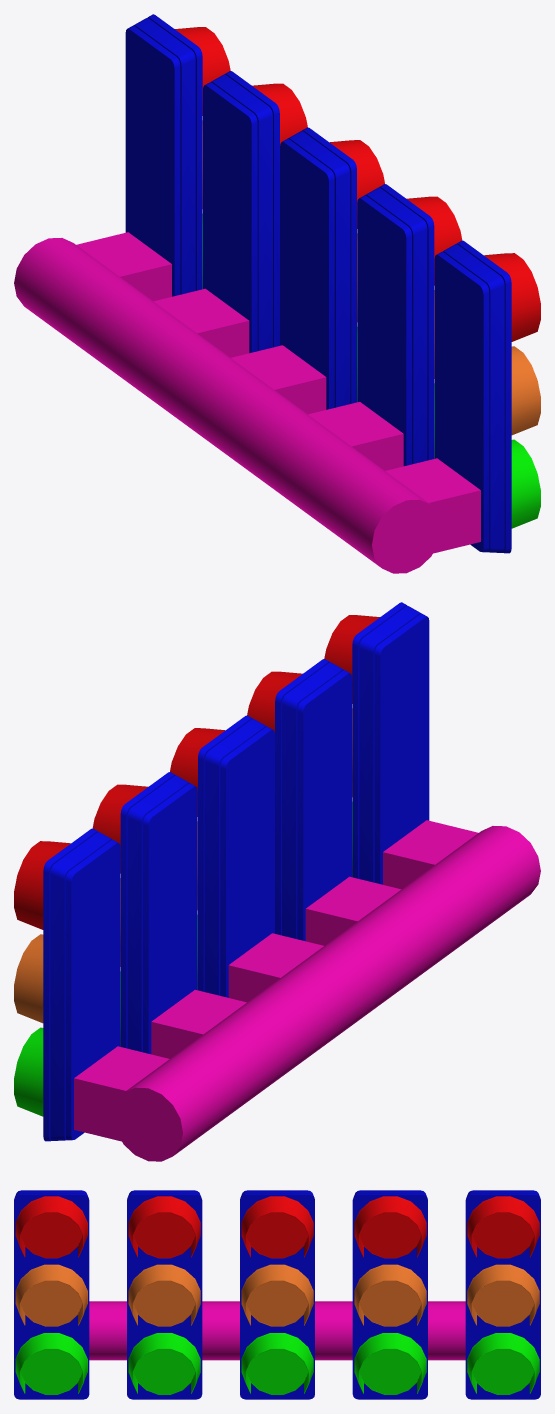
Rendered from Race_Lights_Mesh.fbx.
3 renders of one model, top to bottom at view 1: azimuth 30°, elevation 25°; view 2: azimuth 150°, elevation 25°; view 3: azimuth 270°, elevation 25°, orthographic. The views are drawn at different scales.
Parts seen in each view (by area): view 1: Race_Lights.024; view 2: Race_Lights.024; view 3: Race_Lights.024.
Part boxes in pixels (left/top/right/bottom): Race_Lights.024: left=14, top=14, right=540, bottom=573; Race_Lights.024: left=14, top=602, right=540, bottom=1161; Race_Lights.024: left=14, top=1190, right=540, bottom=1399.
Size of the model in its own units: 1400 by 385 by 600.
